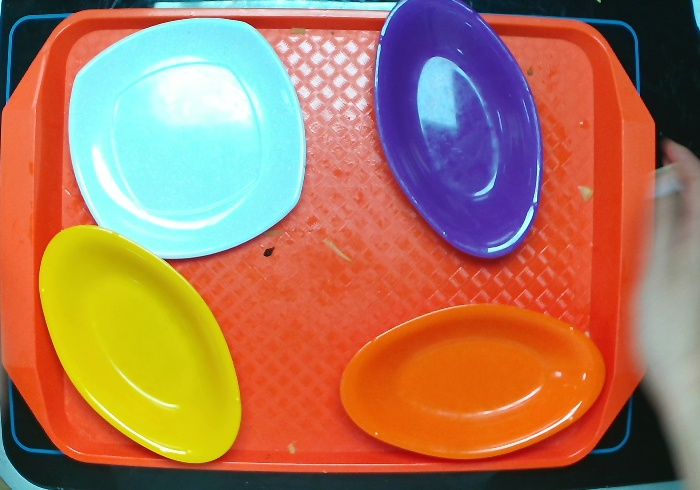RJxy-Fen_Hong_Tuo_Yuan: (371, 1, 552, 263)
RJxy-Huang_Se_Tuo_Yuan: (37, 223, 241, 467)
RJxy-Ju_Huang_Tuo_Yuan: (333, 298, 609, 465)
RJxy-Si_Fang_Die: (58, 17, 314, 268)
